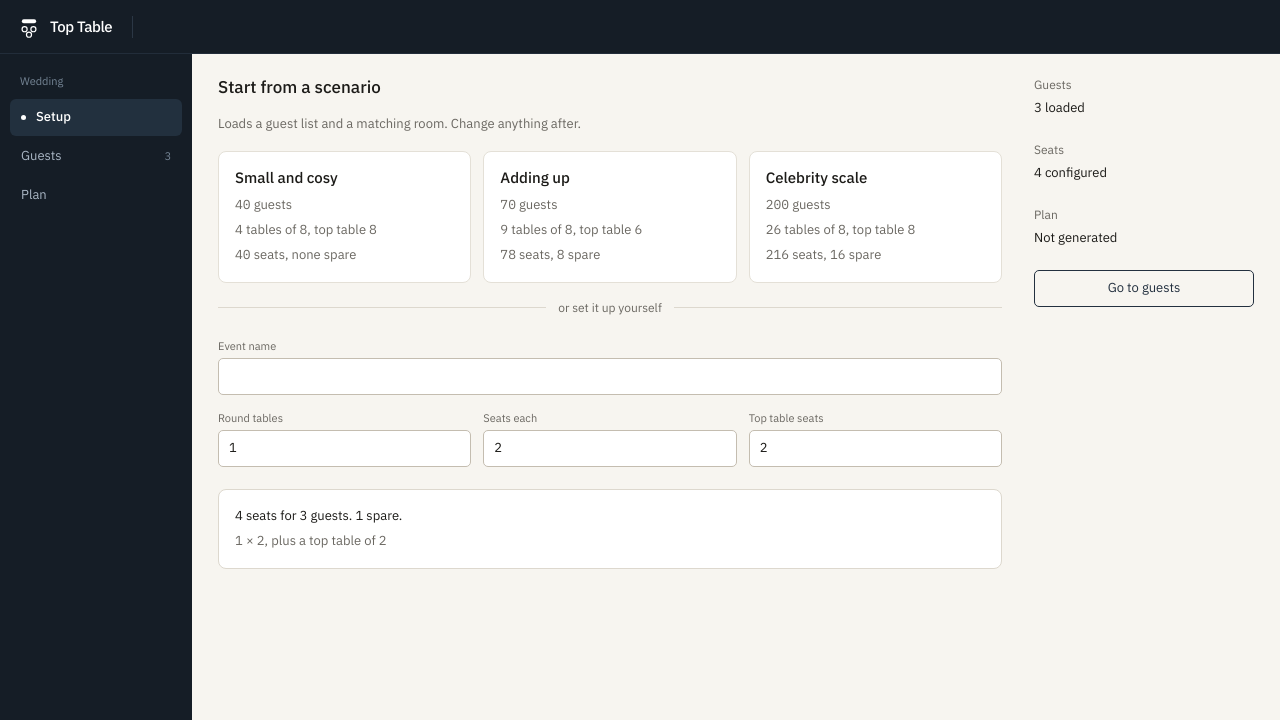
Test case: TT-12 ("Clicking a pinned guest releases the pin") — the release control is offered per guest, not per table › a solver-seated, unpinned guest sharing a table with a pinned one is offered no release control, and no button anywhere claims them as pinned
The width and height of the screenshot is (1280, 720).
Click the button "Plan" at coordinates (96, 195), box x1=10 y1=177 x2=182 y2=214
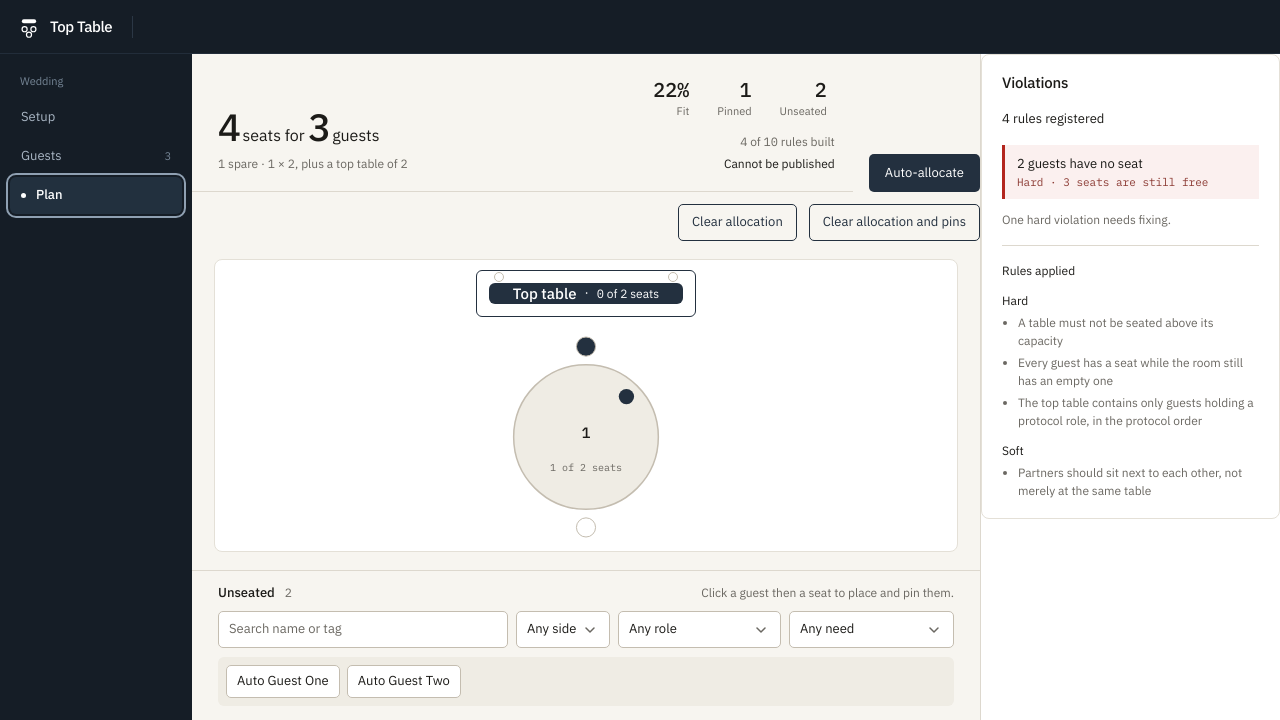
Click the button "Auto-allocate" at coordinates (924, 173), box x1=869 y1=154 x2=980 y2=192
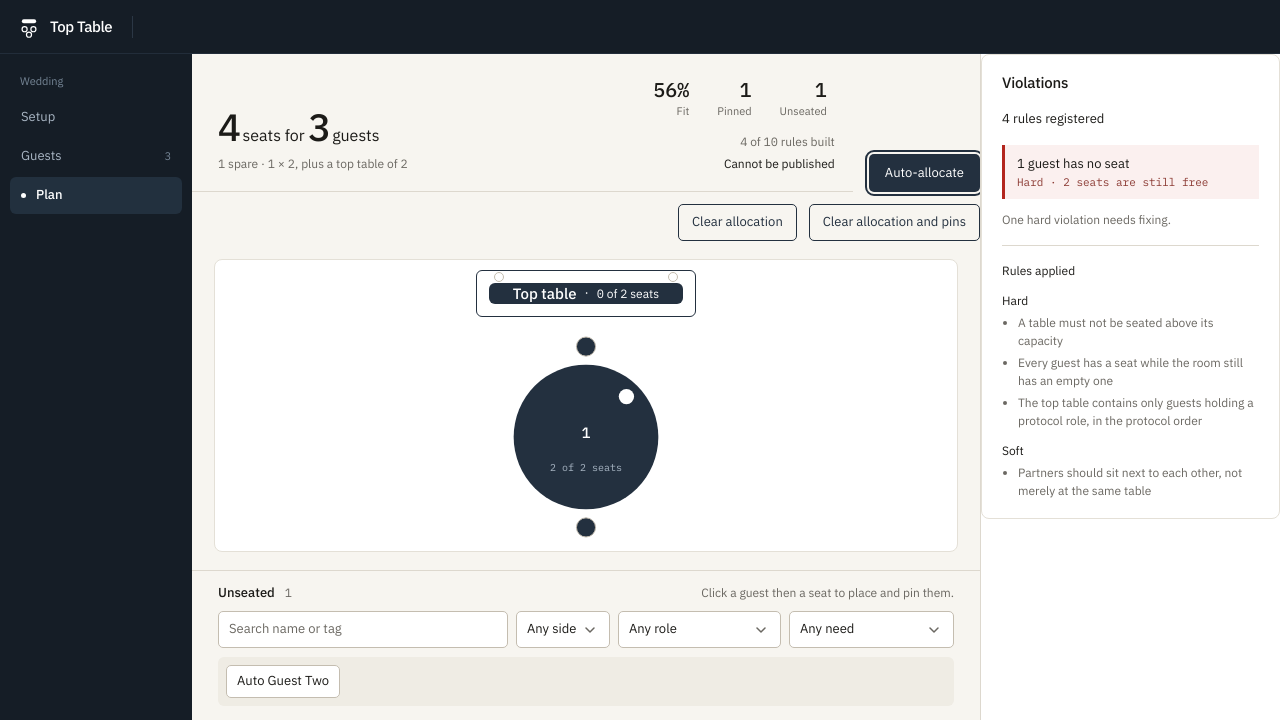
Click the button "1 2 of 2 seats" at coordinates (586, 437), box x1=486 y1=337 x2=686 y2=537
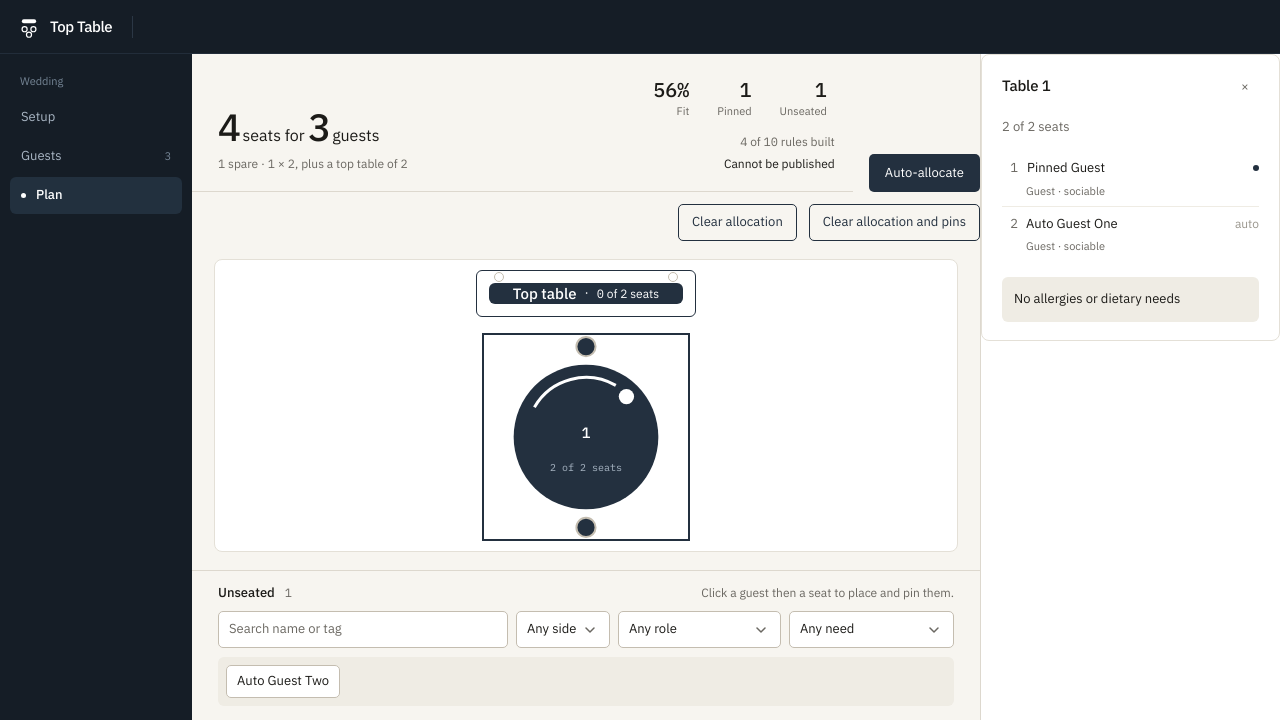
Expected: the list that starts with "Pinned Guest" shows "Auto Guest One", x1=1026 y1=215 x2=1118 y2=232
Expected: the list that starts with "Pinned Guest" is shown, x1=1026 y1=157 x2=1106 y2=180
